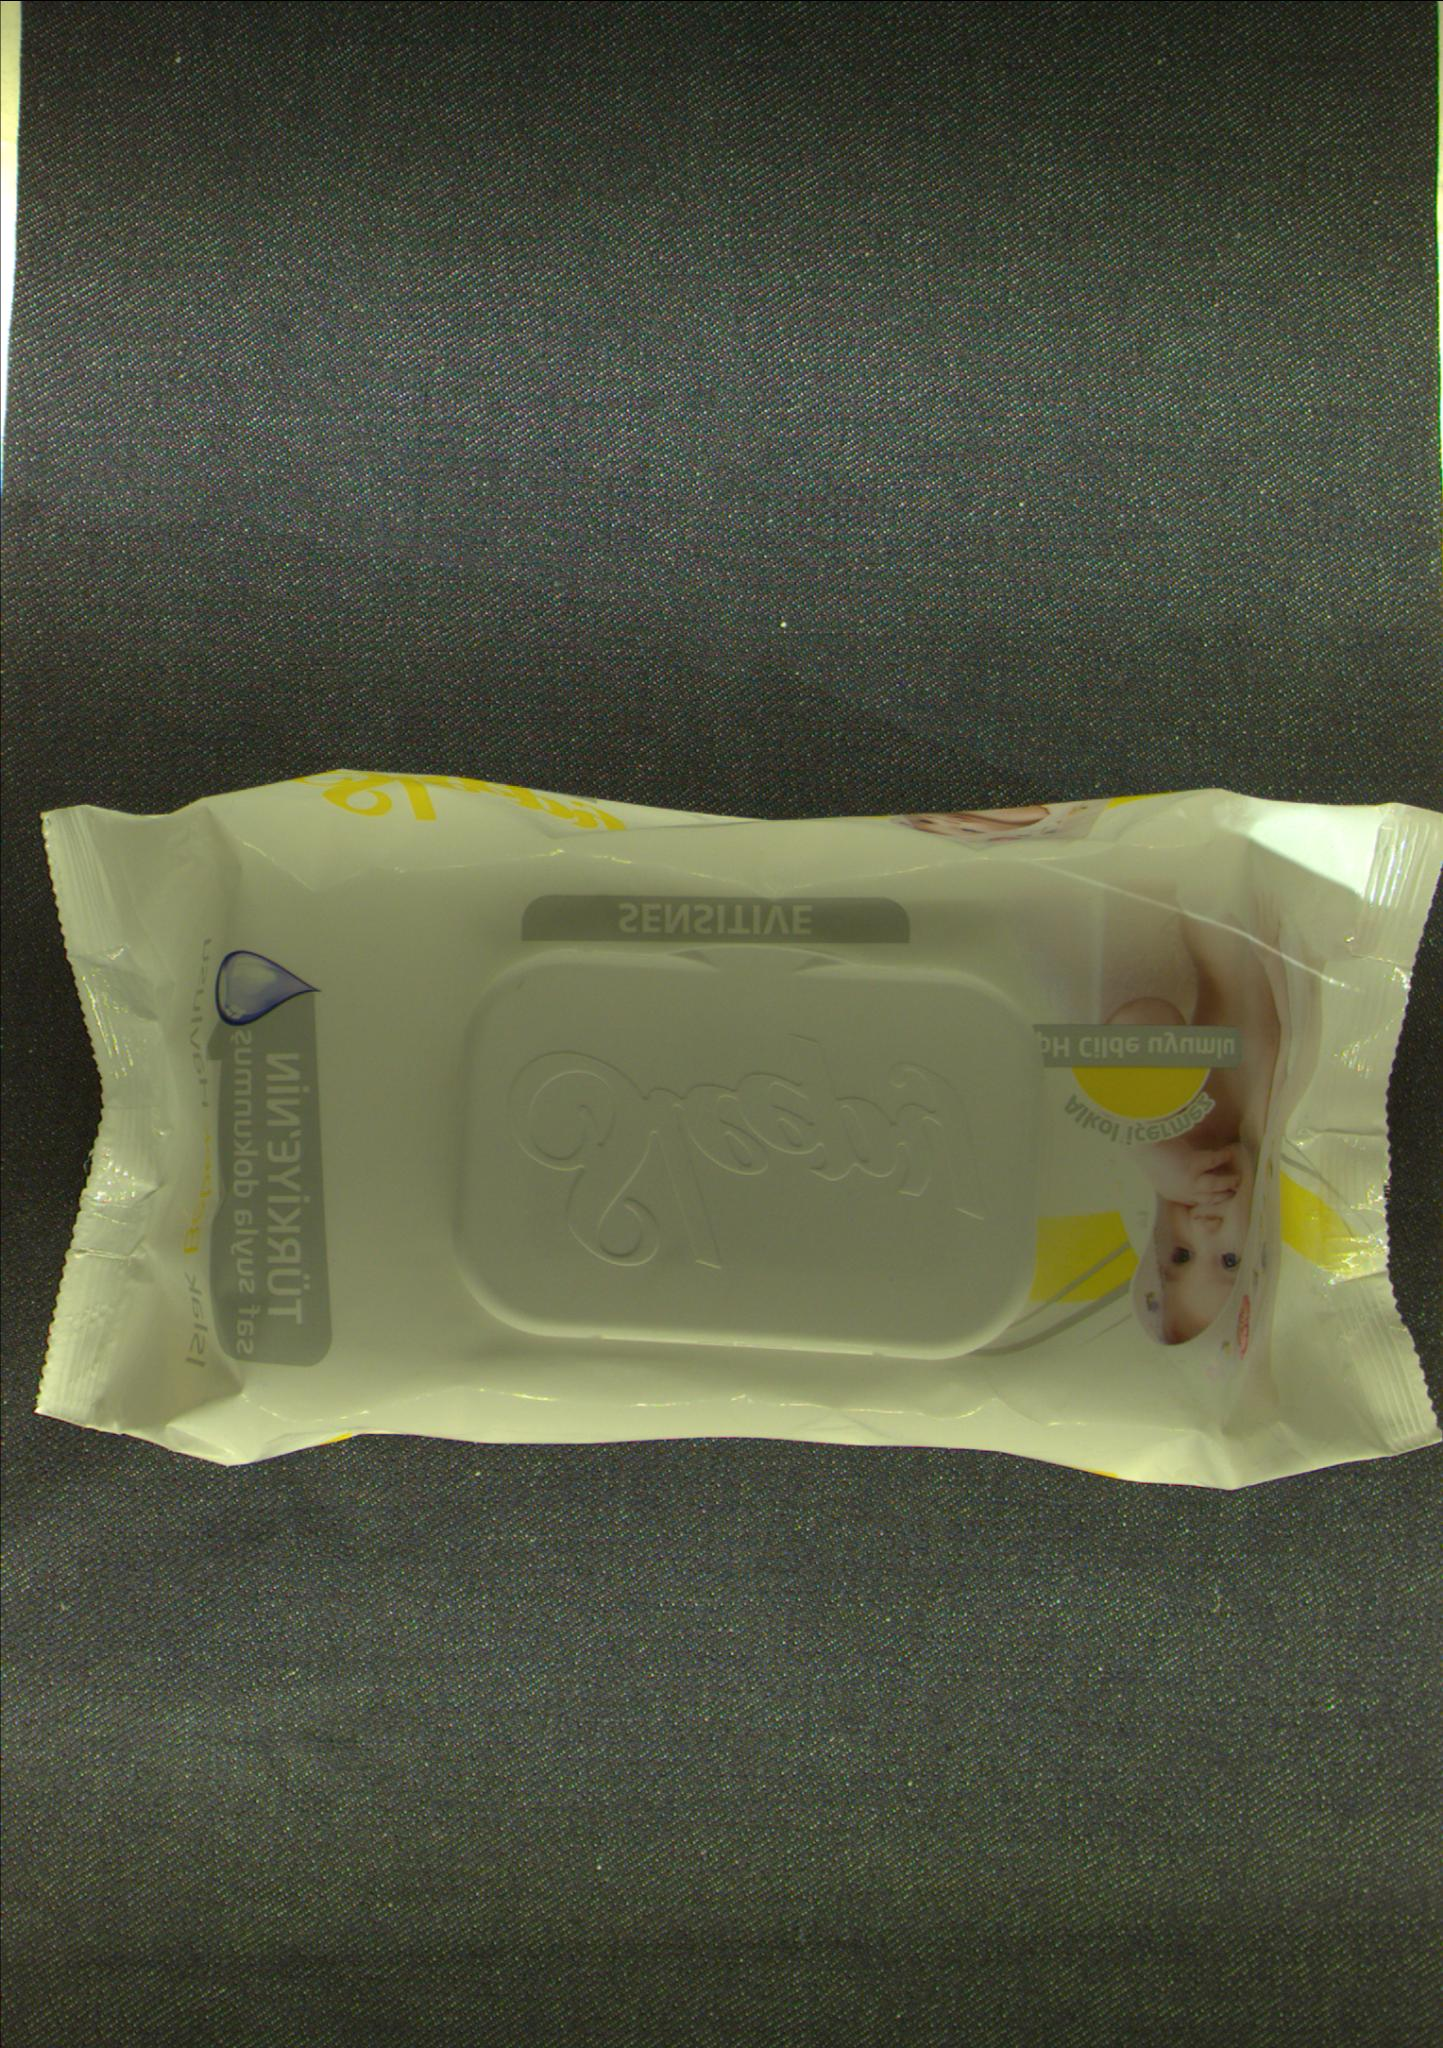kapak: (444, 944, 1042, 1360)
